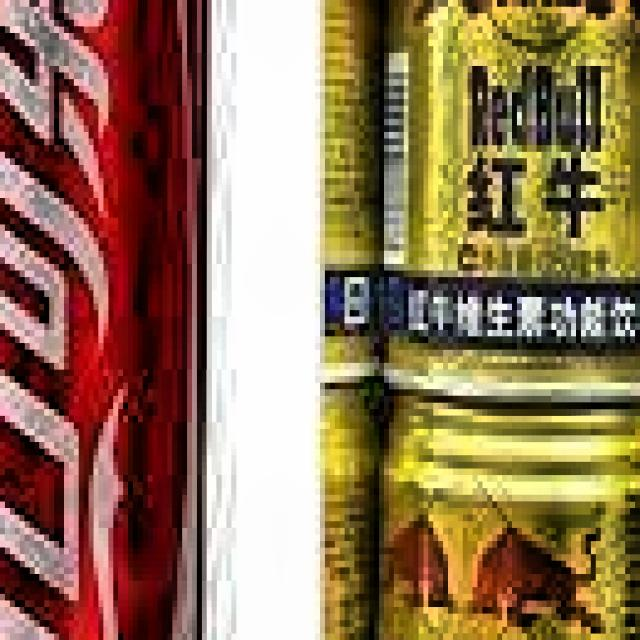metal: (0, 0, 231, 640), (374, 0, 640, 402), (359, 389, 640, 640)
